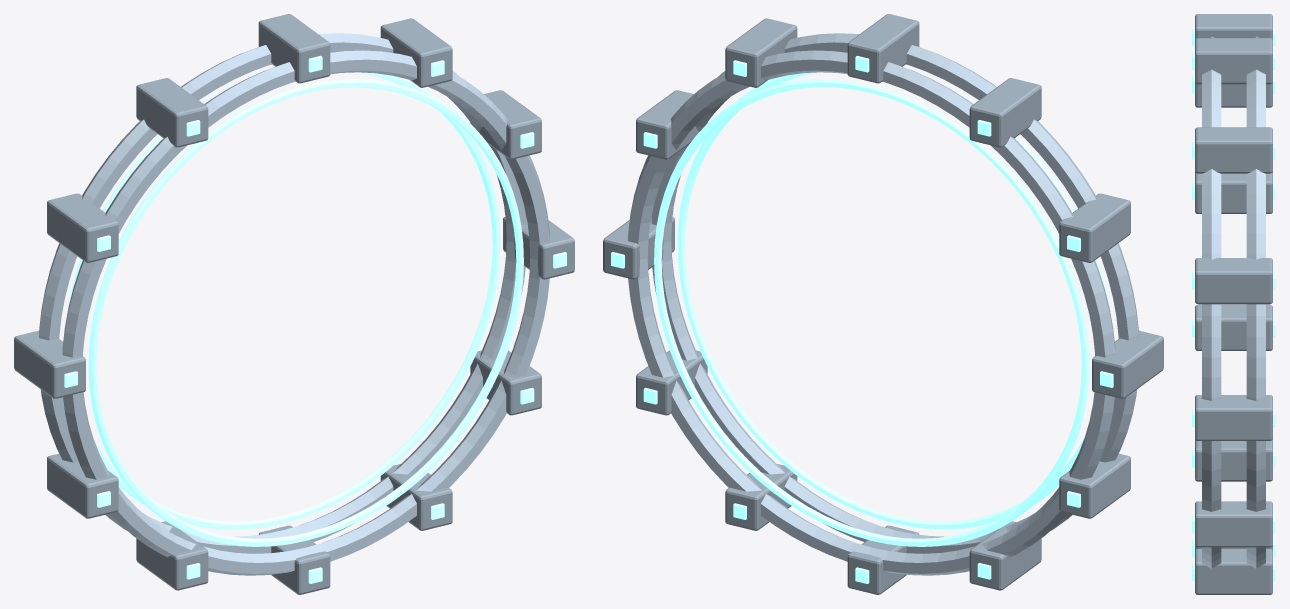
File: gate_anchor.glb
3 views of the same model, side by side, from view 1: azimuth 30°, elevation 25°; view 2: azimuth 150°, elevation 25°; view 3: azimuth 270°, elevation 25° (orthographic). The views are drawn at different scales.
Visible parts, largest first — view 1: council_trim.004, council_hull.005, council_glow.005; view 2: council_trim.004, council_hull.005, council_glow.005; view 3: council_hull.005, council_trim.004, council_glow.005.
Part boxes in pixels (left/top/right/bottom): council_trim.004: left=39, top=33, right=549, bottom=575; council_hull.005: left=14, top=14, right=574, bottom=594; council_glow.005: left=64, top=55, right=566, bottom=583; council_trim.004: left=628, top=33, right=1138, bottom=575; council_hull.005: left=603, top=14, right=1163, bottom=594; council_glow.005: left=611, top=55, right=1113, bottom=583; council_hull.005: left=1195, top=14, right=1272, bottom=594; council_trim.004: left=1202, top=36, right=1265, bottom=568; council_glow.005: left=1192, top=28, right=1275, bottom=580.
Size of the model in its own units: 205 by 205 by 30.
